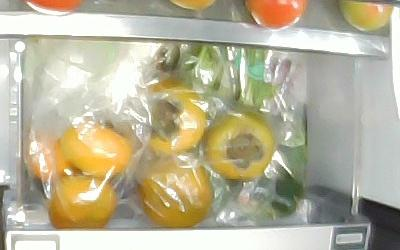persimmon_vinyl: (133, 83, 207, 154), (140, 158, 216, 225), (206, 113, 274, 185), (60, 119, 135, 176), (47, 170, 116, 228)
